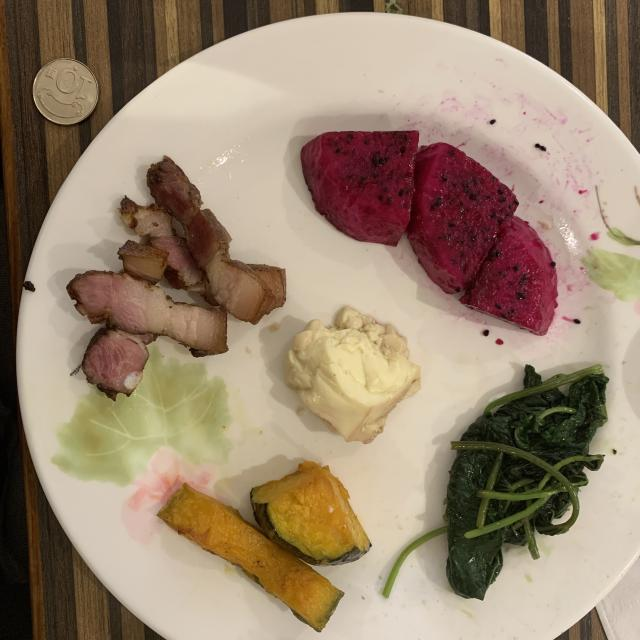coin: (32, 59, 99, 125)
grilled pork: (68, 158, 285, 399)
pumpkin: (159, 461, 370, 631)
sweet potato leaves: (390, 366, 609, 599)
